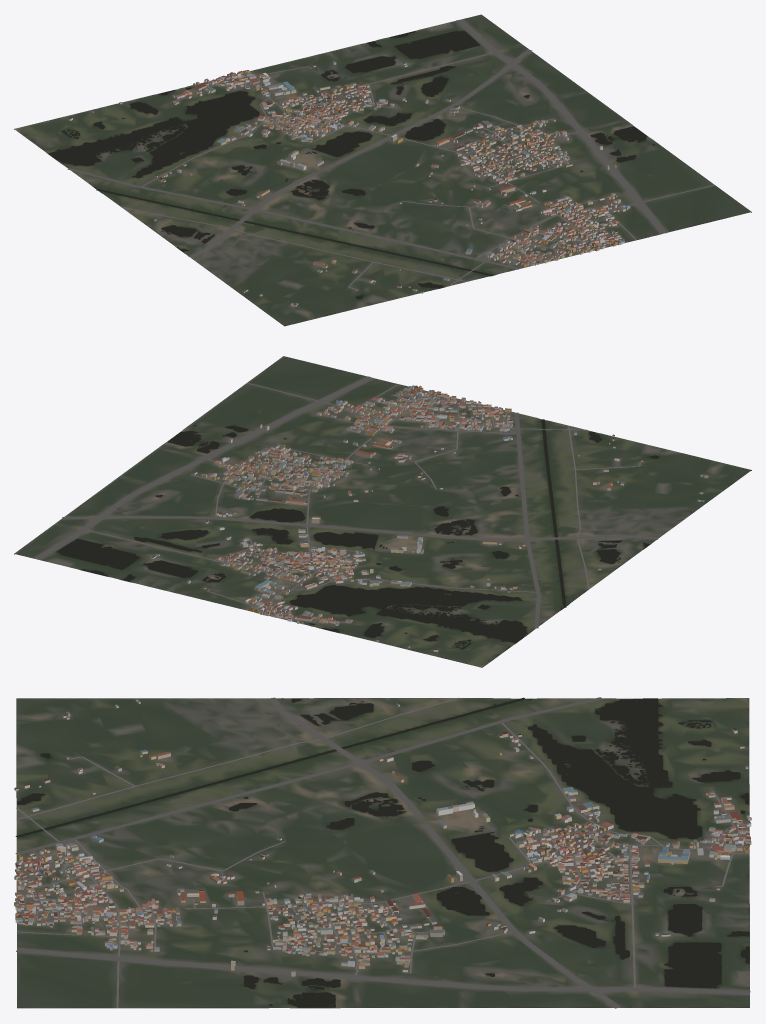
3 views of the same model, one above another, from view 1: azimuth 30°, elevation 25°; view 2: azimuth 150°, elevation 25°; view 3: azimuth 270°, elevation 25° (orthographic). The views are drawn at different scales.
Visible parts, largest first — view 1: ground, buildings, water, roads; view 2: ground, buildings, water, roads; view 3: ground, buildings, water, roads.
Boxes of the visible parts, x1,y1,x2,y2 form: ground: [14, 14, 751, 326]; buildings: [68, 61, 630, 306]; water: [48, 31, 654, 299]; roads: [67, 19, 714, 289]; ground: [14, 356, 751, 667]; buildings: [151, 385, 708, 652]; water: [56, 419, 659, 649]; roads: [33, 376, 658, 628]; ground: [16, 698, 749, 1008]; buildings: [14, 699, 751, 976]; water: [15, 697, 749, 1007]; roads: [15, 697, 750, 1008].
Size of the model in its own units: 1411 by 17.32 by 1411.
